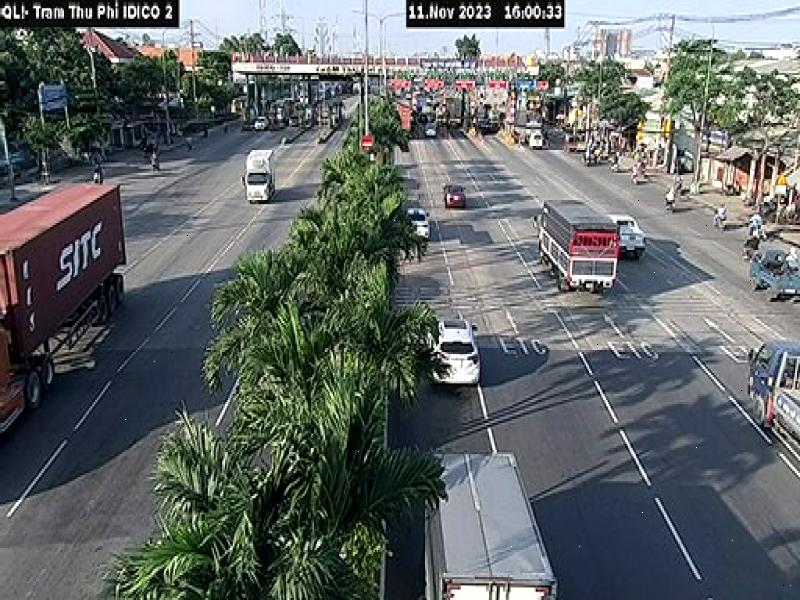truck: (0, 177, 129, 434), (425, 443, 559, 600), (535, 196, 619, 297), (747, 336, 800, 459), (242, 141, 278, 207)
